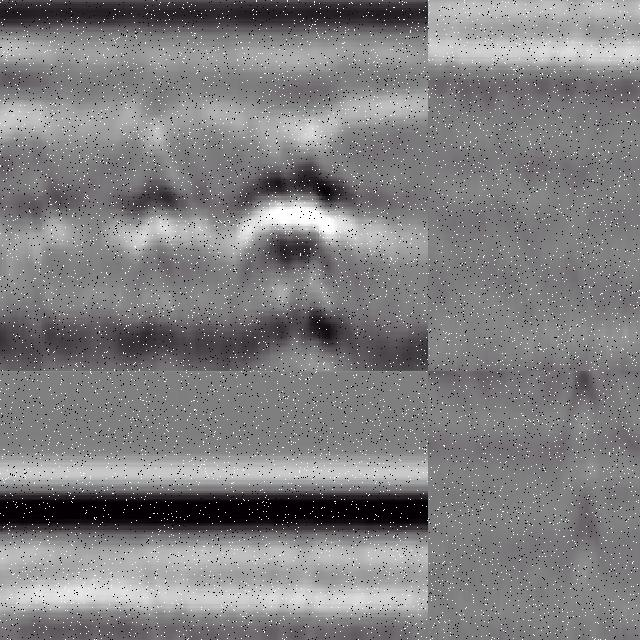crack: (562, 372, 602, 640)
loose: (92, 133, 352, 372)
